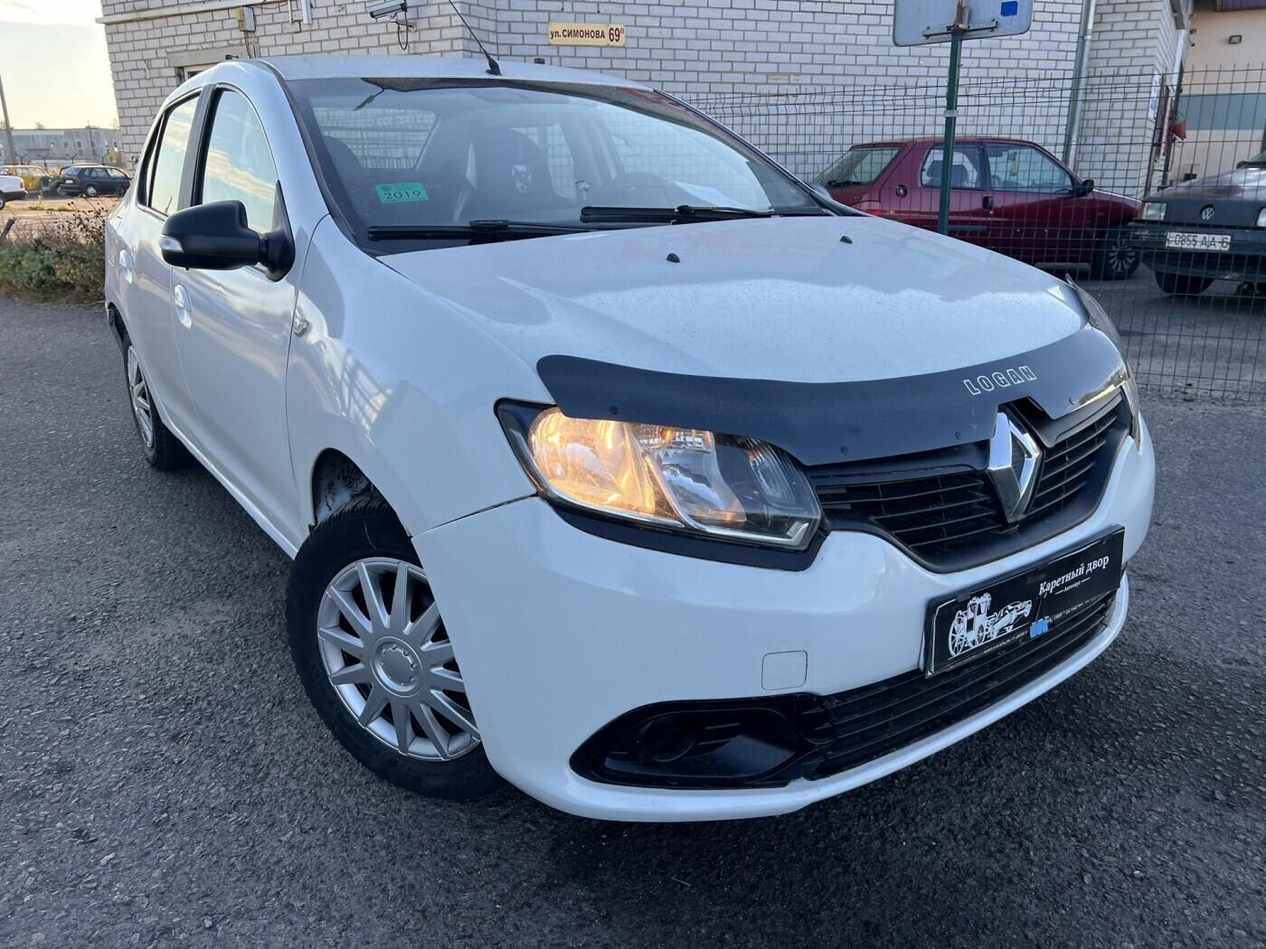Logan_2013-2018: (98, 54, 1163, 813)
